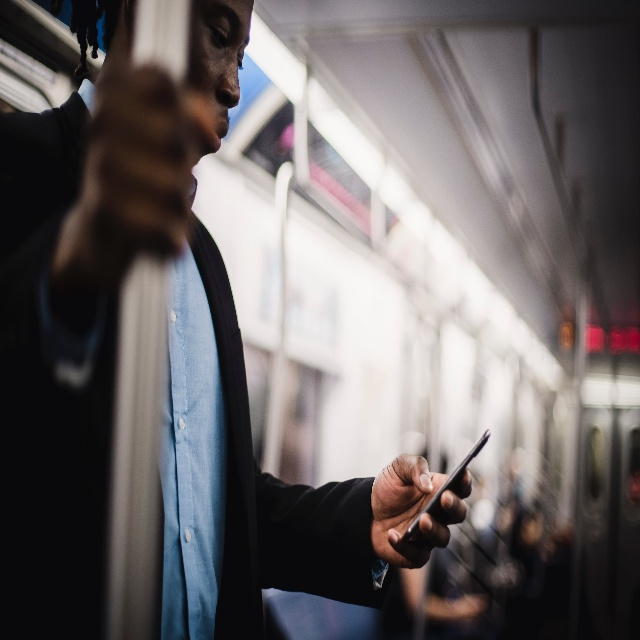Sin_guantes: (369, 454, 473, 572)
